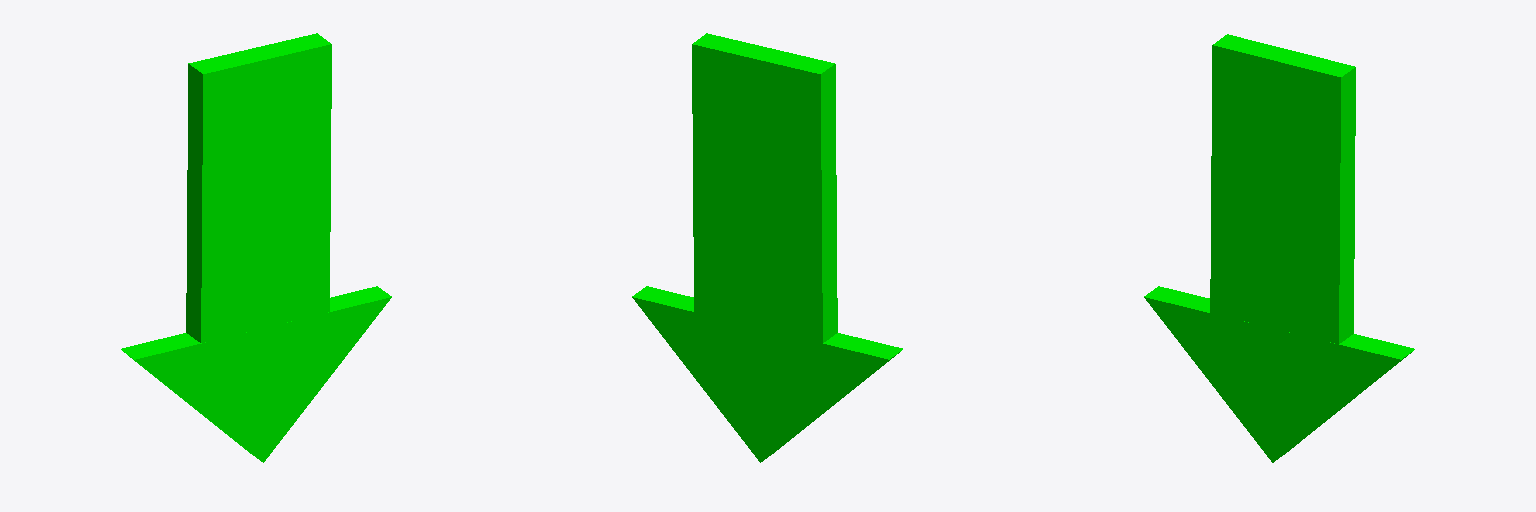
3 views of the same model, side by side, from view 1: azimuth 30°, elevation 25°; view 2: azimuth 150°, elevation 25°; view 3: azimuth 330°, elevation 25° (orthographic).
Parts seen in each view (by area): view 1: Box, Box1; view 2: Box, Box1; view 3: Box, Box1.
Boxes of the visible parts, x1=… form: Box: x1=186, y1=33, x2=331, y2=342; Box1: x1=121, y1=286, x2=391, y2=462; Box: x1=692, y1=33, x2=837, y2=343; Box1: x1=632, y1=286, x2=902, y2=462; Box: x1=1210, y1=34, x2=1355, y2=343; Box1: x1=1144, y1=286, x2=1414, y2=462.
Bounding box in the file's own units: 1 × 1.5 × 0.1003.
1 materials, 1 textured.